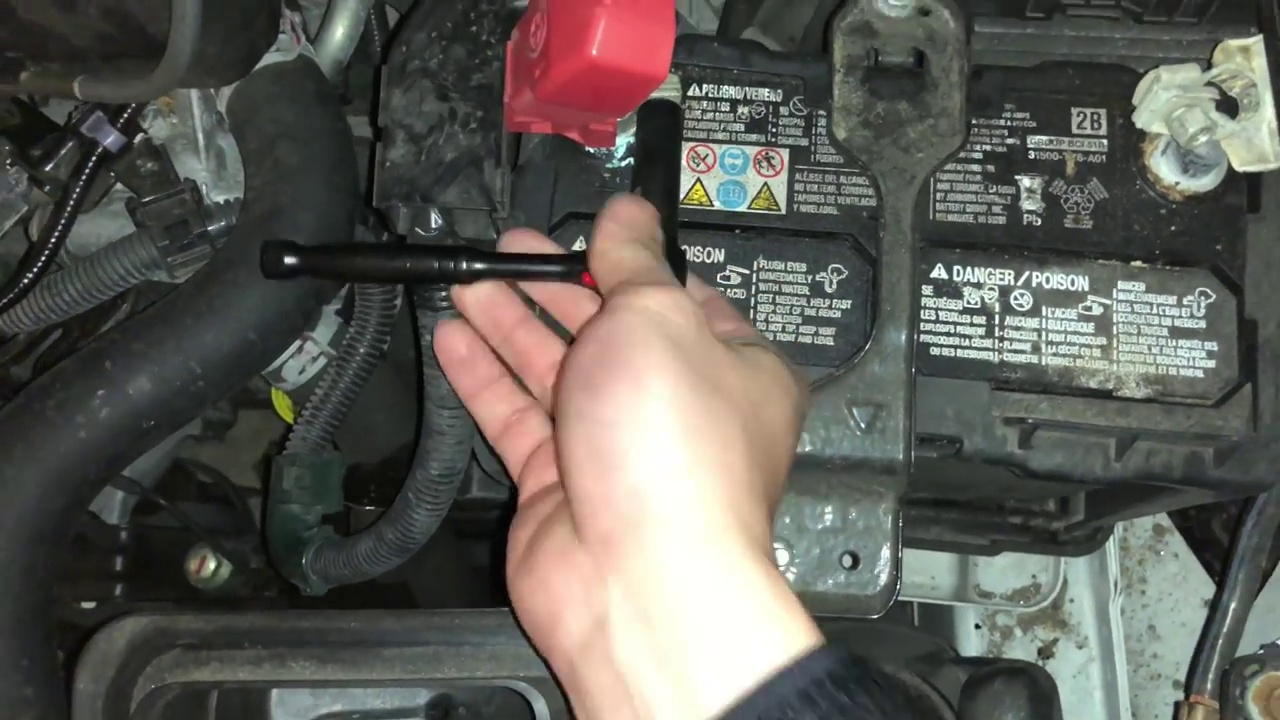battery: (507, 9, 1279, 487)
neg_connected: (1116, 25, 1277, 224)
pos_touched: (509, 14, 775, 398)
